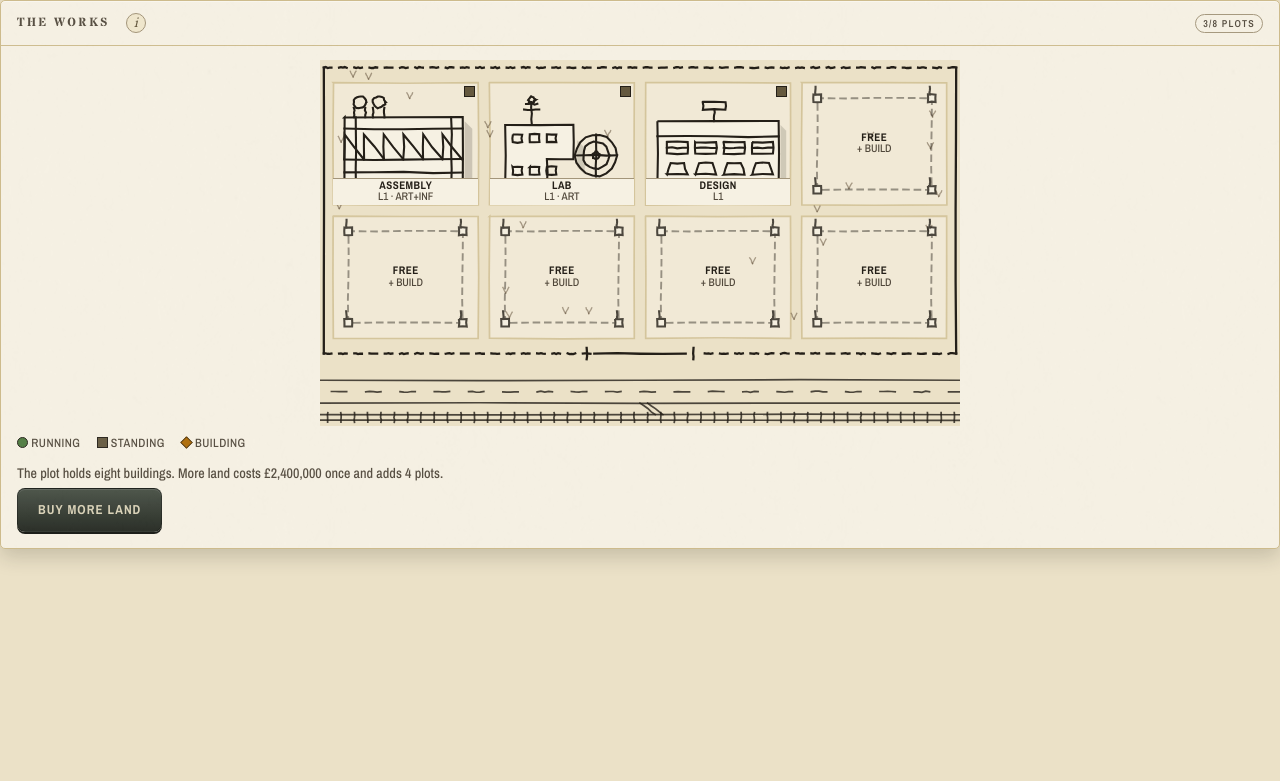
Test: tomtplanen (P179) › ett tryck på en tom plats öppnar byggmenyn med alla sju slagen, pris och byggtid ur datafilen
What coordinates should you click on to do the following:
click the button with test id "works-slot-free-7"
I would click on:
 (874, 277)
Its box is [802, 216, 947, 338].
(page scrolled)
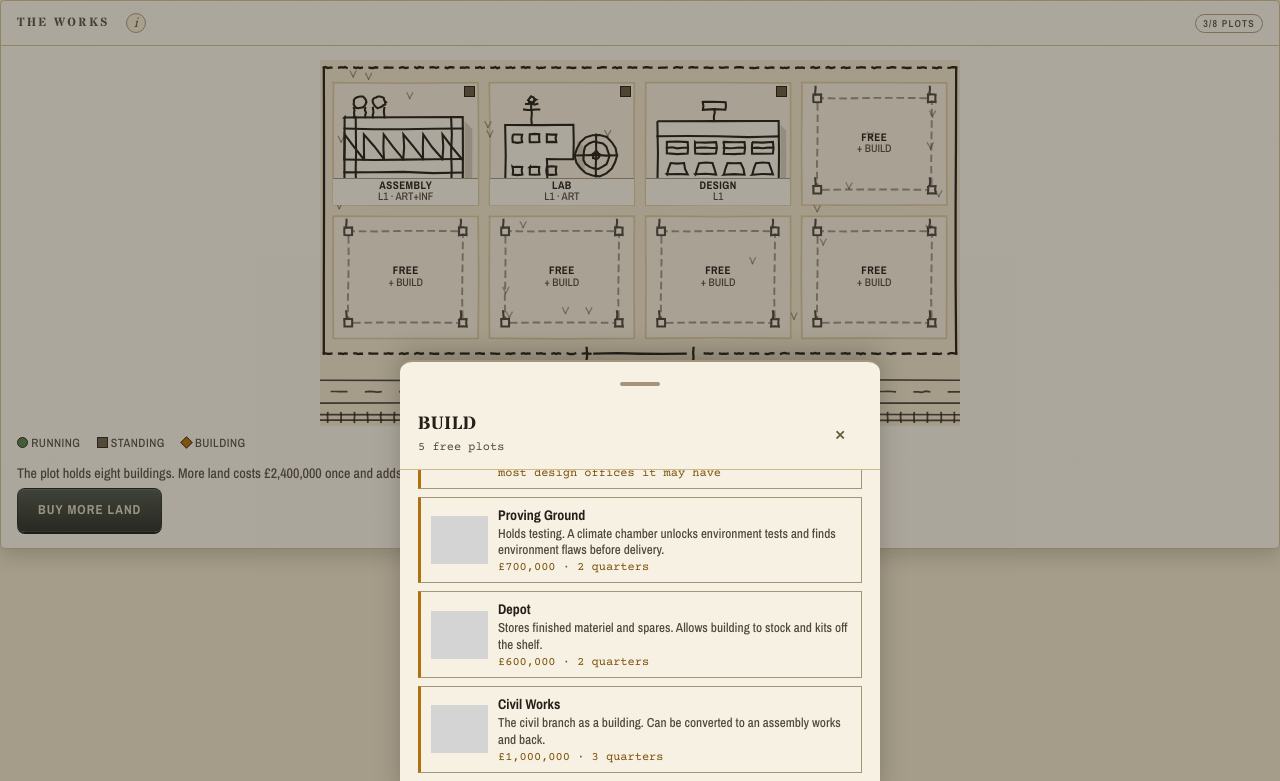
Expected: the button with test id "build-option-depot" is shown, [418, 591, 862, 678]
